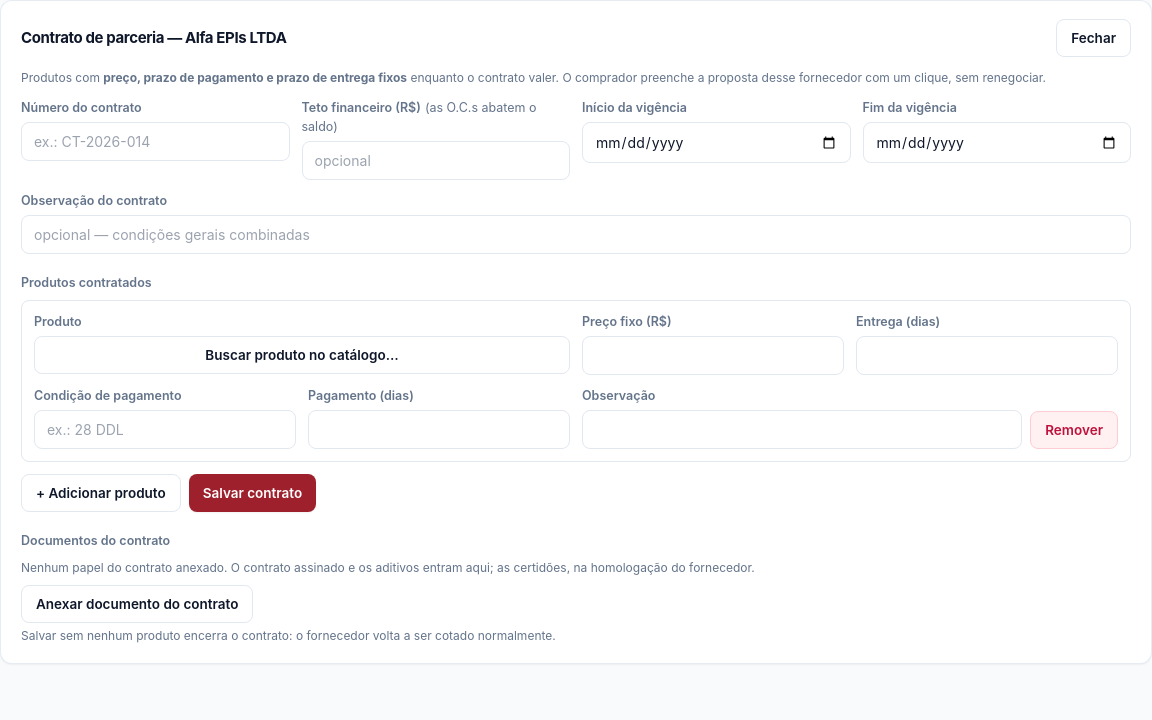
Test: o produto do contrato se escolhe buscando › a linha abre a busca, em vez de uma lista com o catálogo inteiro
The image size is (1152, 720).
Expected: the dropdown labelled "Produto do contrato" is not shown
Click the button with aria-label "Buscar produto do contrato": (302, 355) [34,336,570,374]
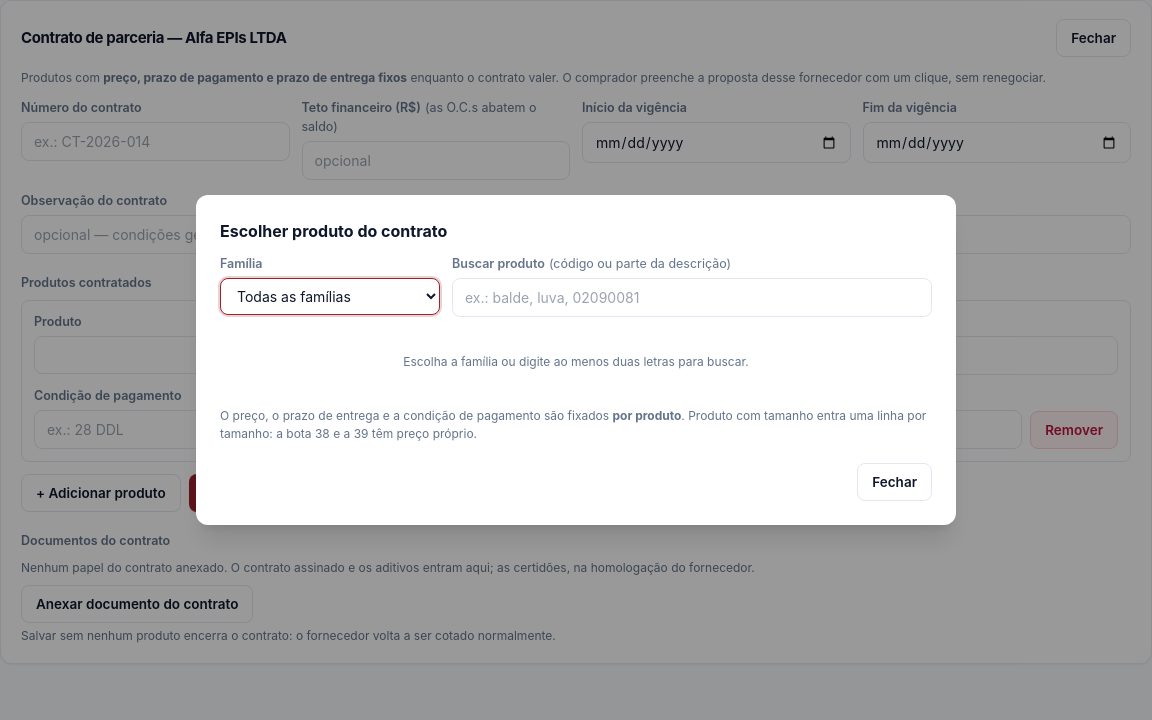
Expected: the dialog is shown, [196,195,956,525]
